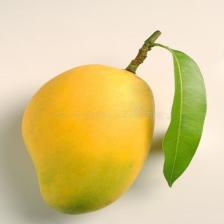green: (125, 30, 207, 187)
yellow: (22, 65, 154, 215)
